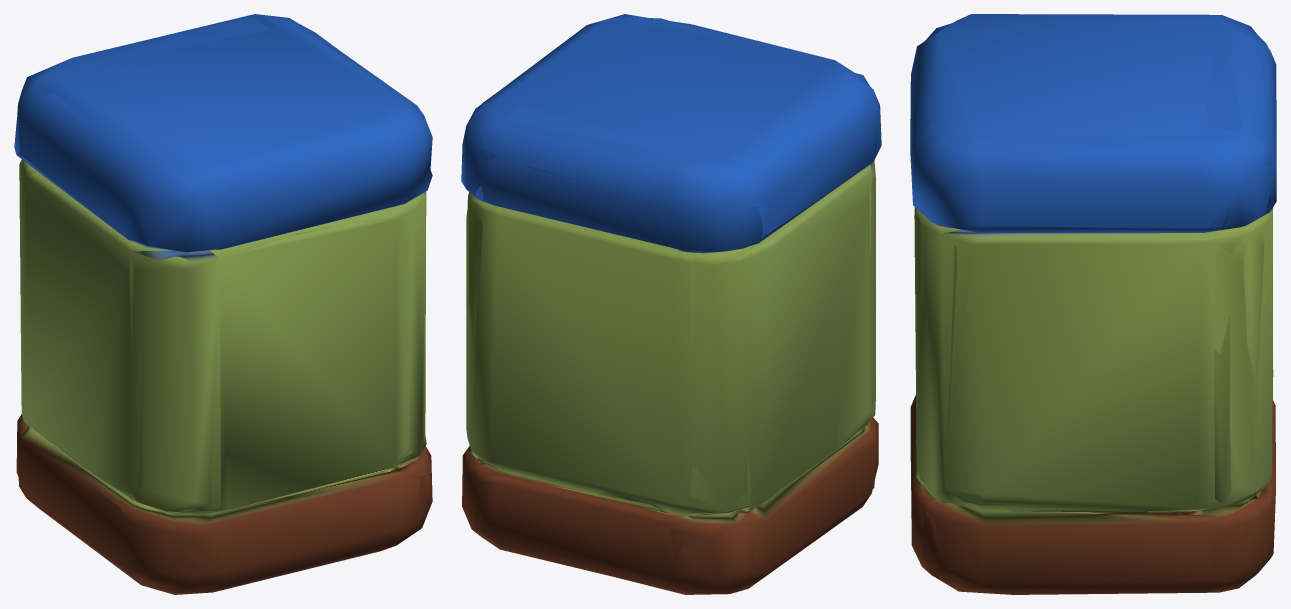
Rendered from gen3d-spice-rack-lod1.glb.
The picture shows the model from 3 angles, left to right: view 1: azimuth 30°, elevation 25°; view 2: azimuth 150°, elevation 25°; view 3: azimuth 270°, elevation 25°; orthographic projection. The views are drawn at different scales.
Parts seen in each view (by area): view 1: part_0; view 2: part_0; view 3: part_0.
Part boxes in pixels (box(x1,y1,x2,y2)): part_0: box(14, 14, 432, 594); part_0: box(461, 14, 881, 594); part_0: box(910, 14, 1276, 594).
Bounding box in the file's own units: 0.7262 × 0.9978 × 0.7257.
